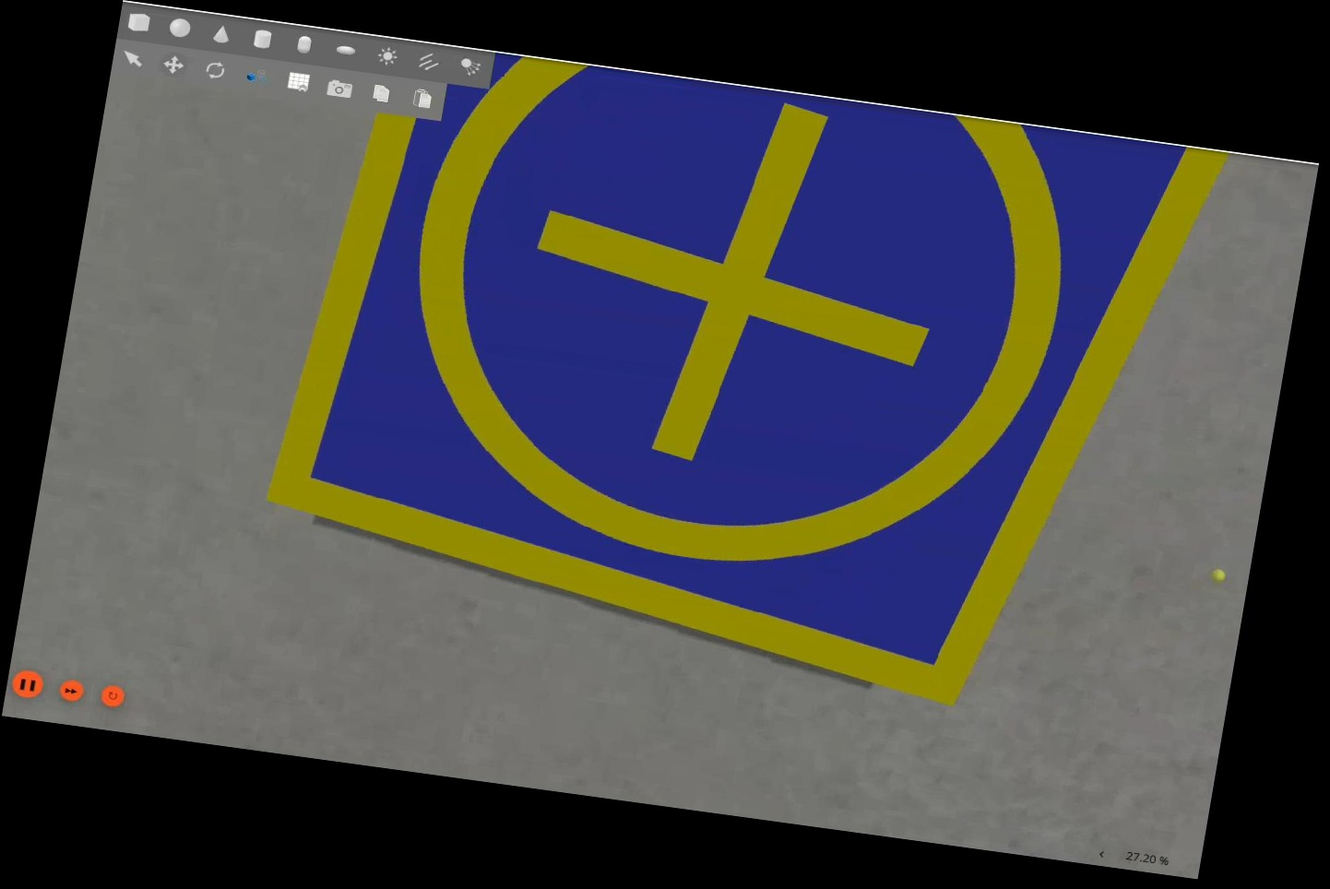small_base: (243, 30, 1225, 728)
